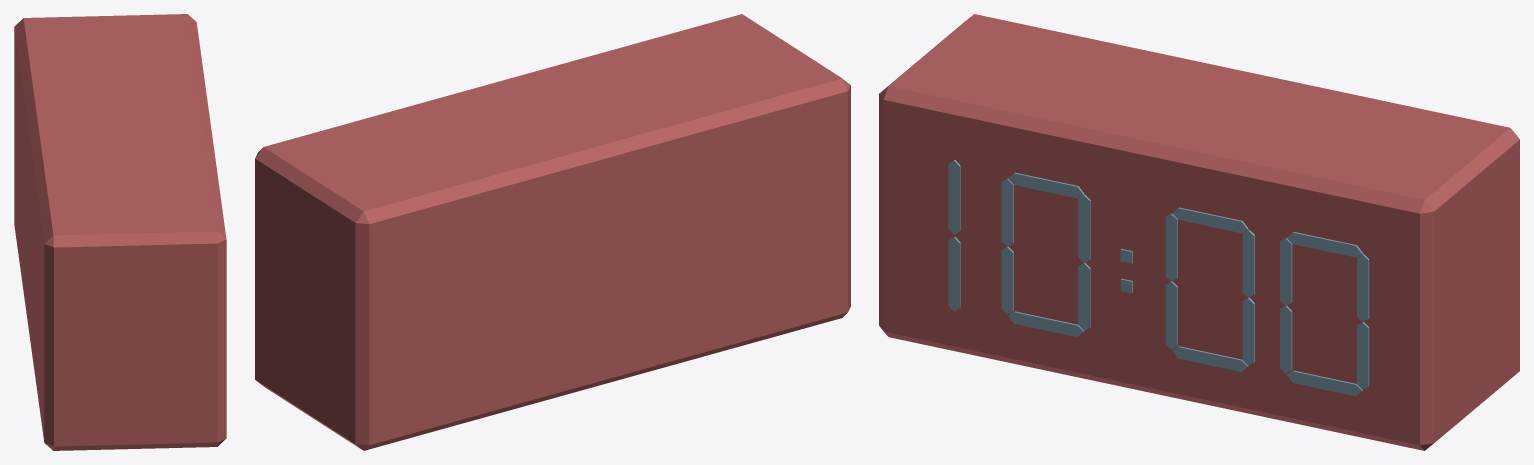
Rendered from Bedroom_Clock.fbx.
3 views of the same model, side by side, from view 1: azimuth 30°, elevation 25°; view 2: azimuth 150°, elevation 25°; view 3: azimuth 270°, elevation 25° (orthographic). The views are drawn at different scales.
Parts seen in each view (by area): view 1: Bedroom_Clock; view 2: Bedroom_Clock; view 3: Bedroom_Clock.
Part boxes in pixels (x1,y1,x2,y2): Bedroom_Clock: (14,14,226,450); Bedroom_Clock: (255,14,850,450); Bedroom_Clock: (879,14,1519,450).
Size of the model in its own units: 21.25 by 12.81 by 29.65.
